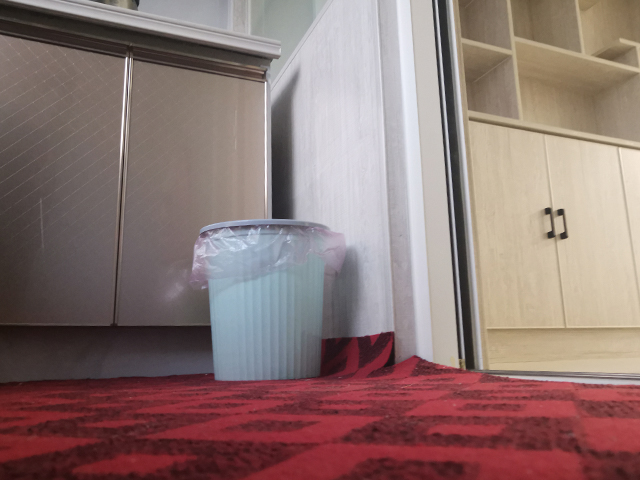cabinet: (1, 1, 283, 385), (453, 108, 640, 374)
carpet: (1, 329, 640, 479)
trashcan: (193, 217, 338, 384)
